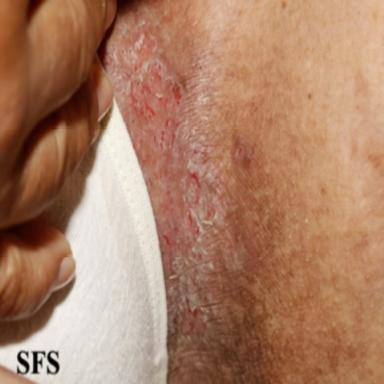Hailey-Hailey-Disease: (106, 23, 224, 332)
